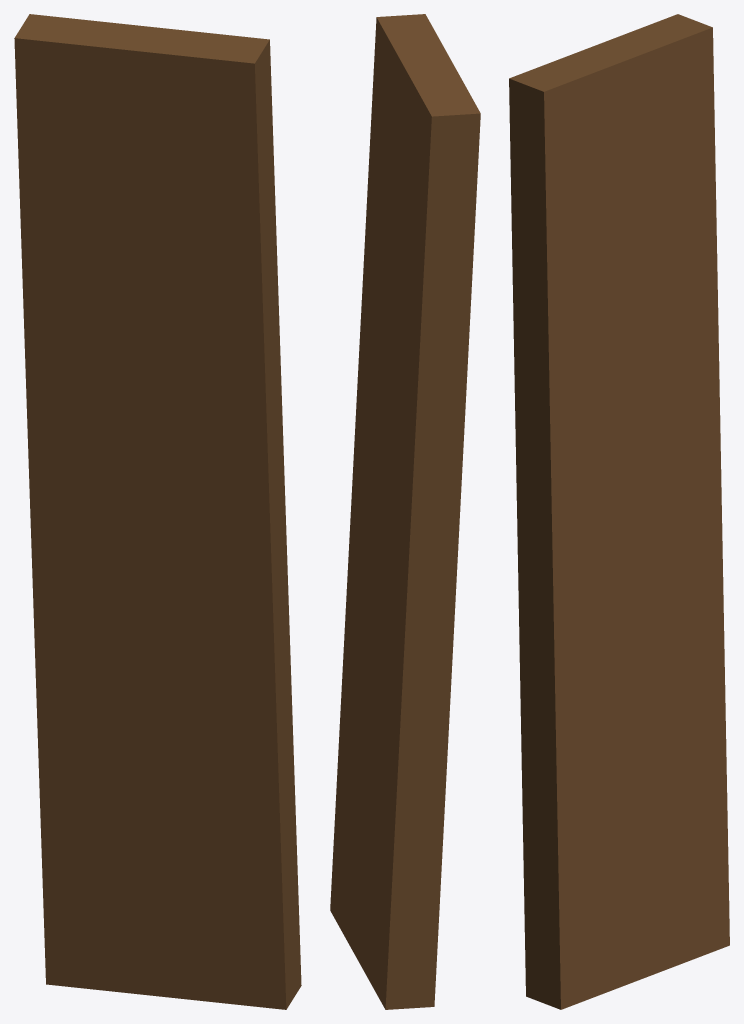
File: Planche.fbx
3 views of the same model, side by side, from view 1: azimuth 30°, elevation 25°; view 2: azimuth 150°, elevation 25°; view 3: azimuth 270°, elevation 25° (orthographic). The views are drawn at different scales.
Visible parts, largest first — view 1: Cube; view 2: Cube; view 3: Cube.
Boxes of the visible parts, x1,y1,x2,y2 form: Cube: (14, 14, 301, 1009); Cube: (330, 14, 480, 1009); Cube: (509, 14, 729, 1009).
Bounding box in the file's own units: 71.83 × 296 × 65.56.
